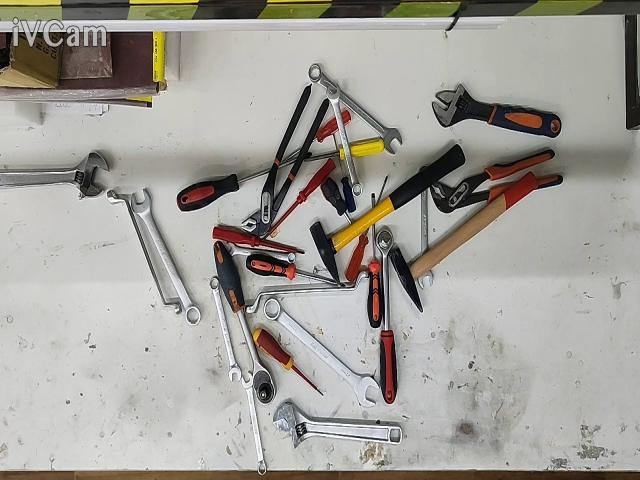Adjustable spanner: (432, 83, 561, 138), (274, 400, 403, 448), (0, 152, 109, 201)
Gas wrench: (241, 83, 330, 236), (430, 148, 563, 213)
Hammer: (388, 169, 540, 314), (309, 144, 466, 282)
Ratchet: (214, 240, 276, 403), (376, 228, 398, 403)
Screwdriver: (176, 152, 312, 212), (262, 158, 336, 242), (252, 327, 322, 394), (345, 175, 388, 283), (280, 110, 351, 165), (246, 255, 346, 287), (212, 227, 305, 254), (367, 192, 382, 328), (304, 139, 384, 162), (333, 134, 356, 213), (320, 177, 352, 225)
Wrench: (264, 297, 379, 407), (131, 188, 201, 325), (107, 189, 182, 315), (308, 65, 402, 155), (245, 270, 369, 314), (327, 83, 362, 197), (210, 277, 242, 383), (241, 371, 266, 475), (222, 240, 296, 263), (418, 189, 434, 289)
